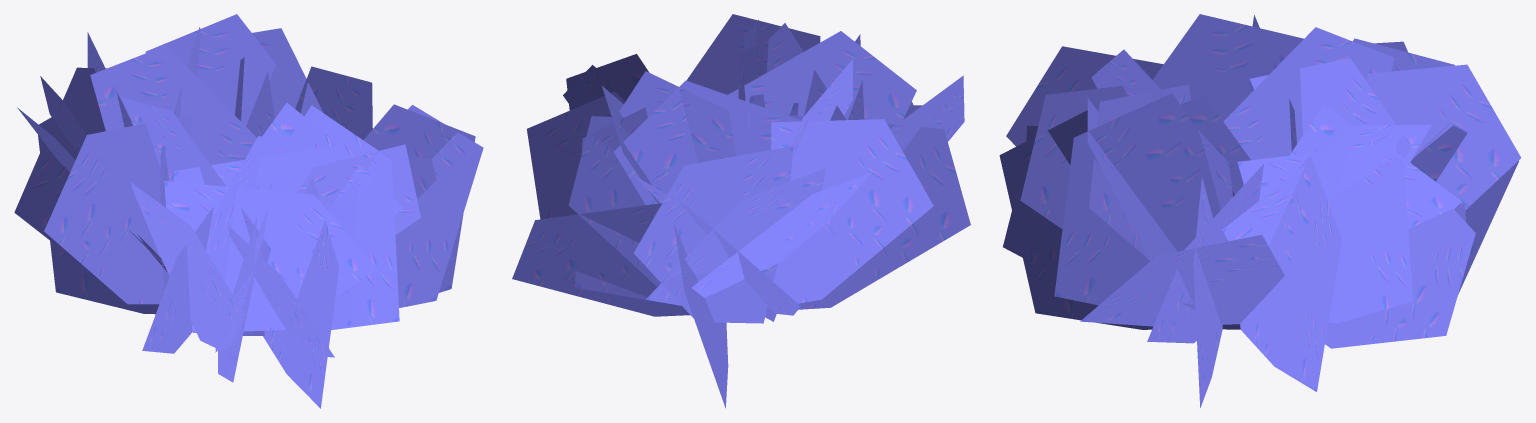
The model's file is tree_Broadleaf_Bush_M1_LOD1.fbx.
3 renders of one model, left to right at view 1: azimuth 30°, elevation 25°; view 2: azimuth 150°, elevation 25°; view 3: azimuth 270°, elevation 25°, orthographic. The views are drawn at different scales.
Visible parts, largest first — view 1: Broadleaf_Bush_M1_LOD1; view 2: Broadleaf_Bush_M1_LOD1; view 3: Broadleaf_Bush_M1_LOD1.
Boxes of the visible parts, box(x1,y1,x2,y2) form: Broadleaf_Bush_M1_LOD1: box(14, 14, 483, 408); Broadleaf_Bush_M1_LOD1: box(512, 14, 970, 408); Broadleaf_Bush_M1_LOD1: box(999, 14, 1521, 407).
Size of the model in its own units: 305 by 206 by 330.
